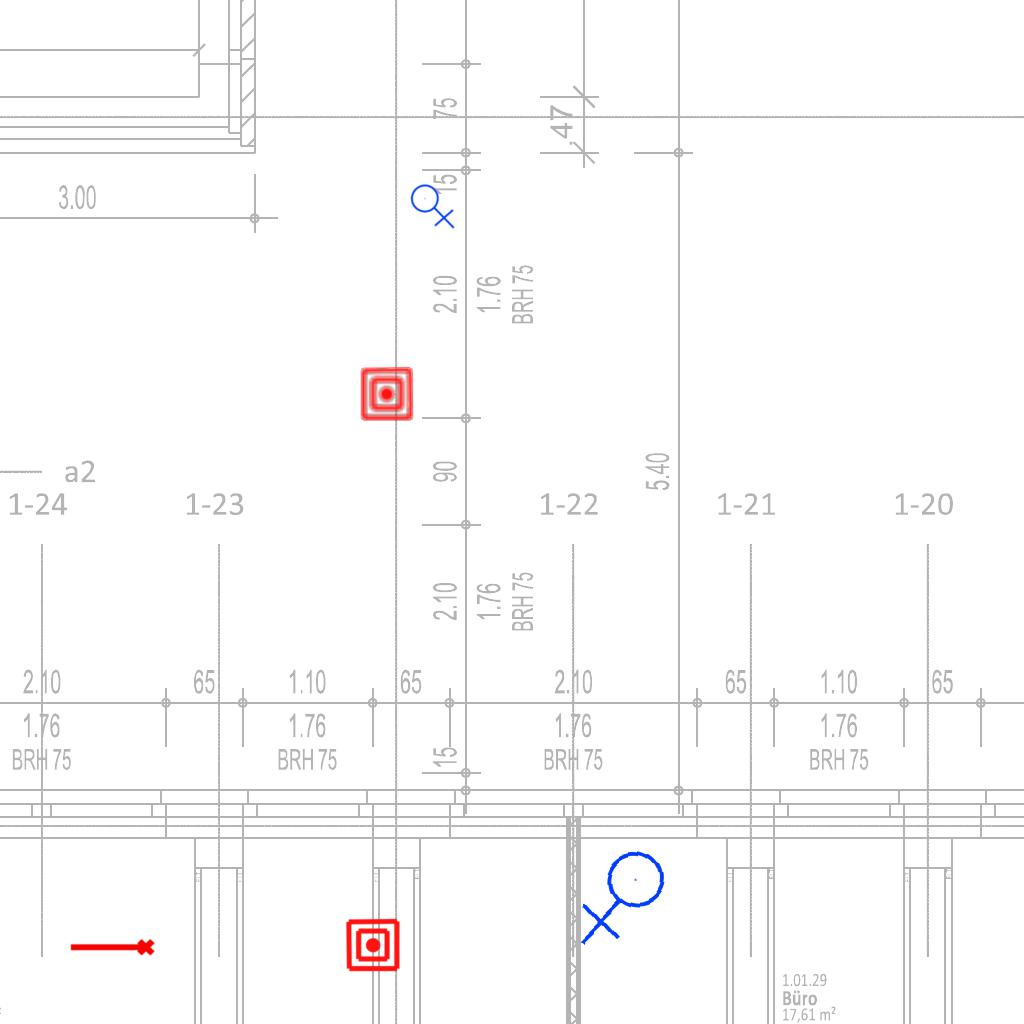ASR_Ansaugoeffnung: (68, 937, 156, 960)
Elektroanschluss_allgemein_230V_Geraeteanschlussdose_230V: (571, 846, 680, 950), (410, 180, 457, 229)
NAM-Nichtautomatischer_Melder: (359, 366, 415, 422), (345, 917, 401, 973)
